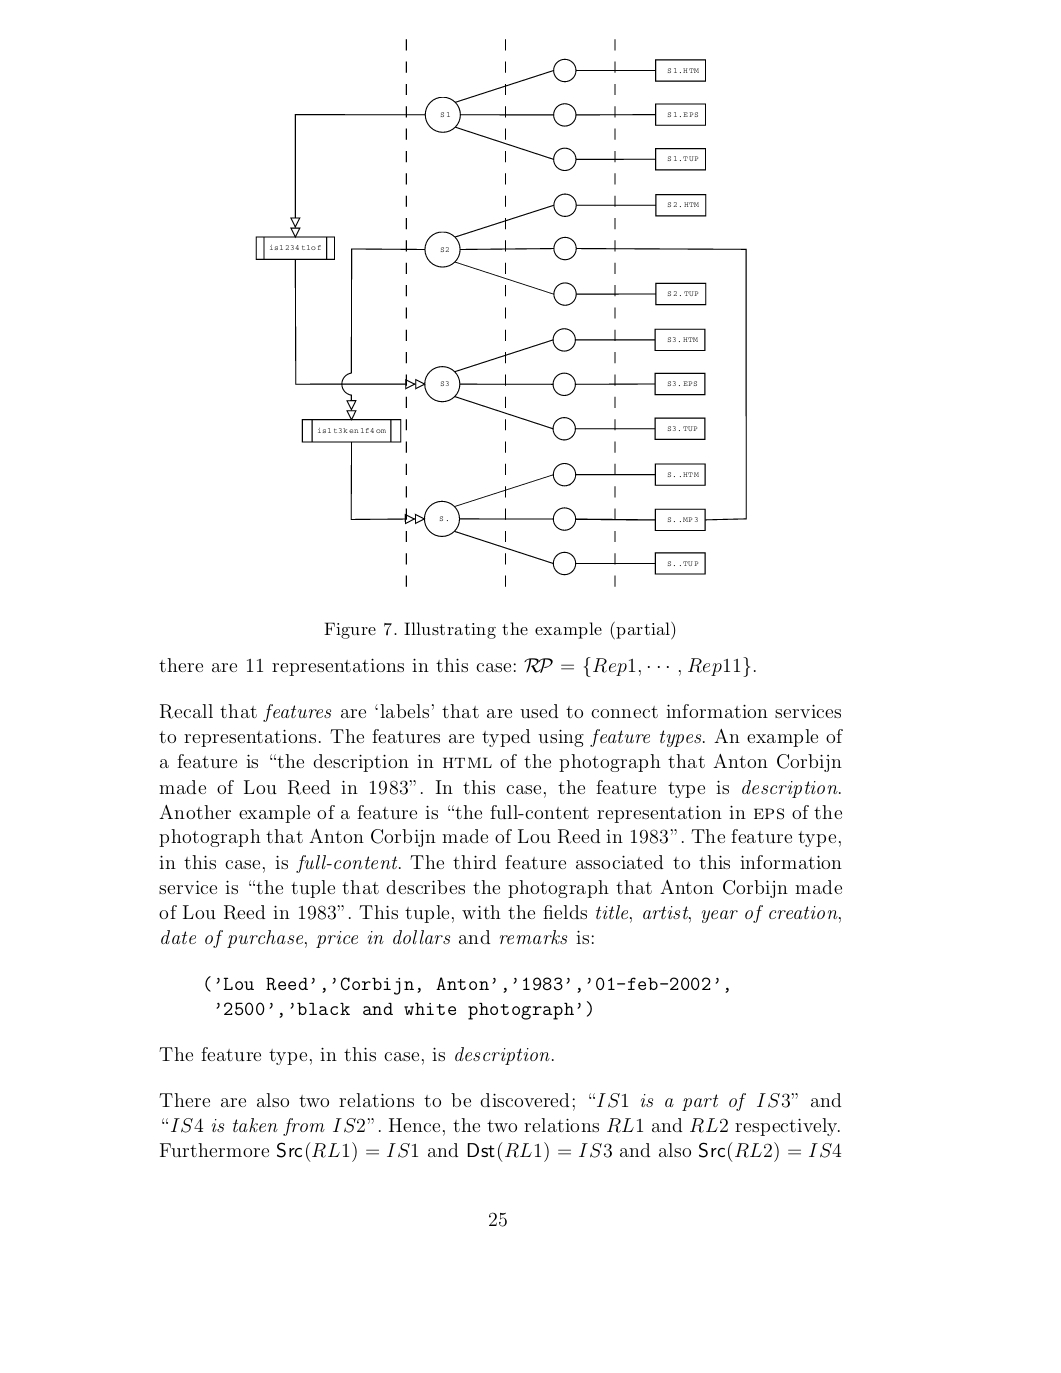figure: (255, 39, 746, 586)
